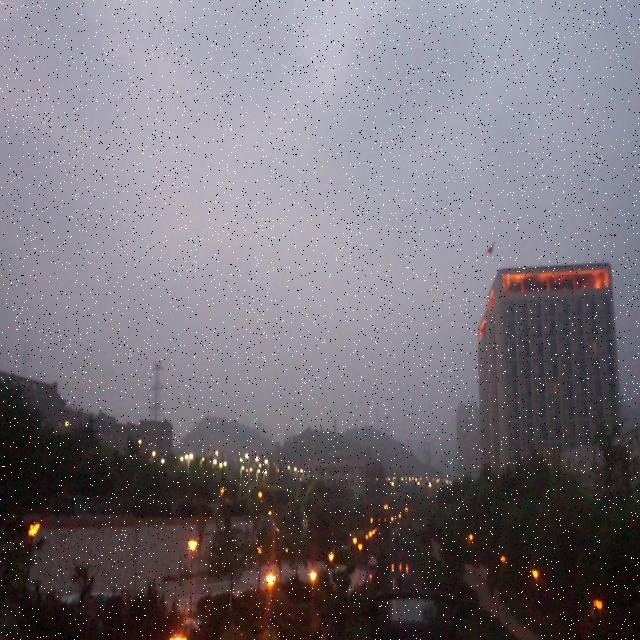UAV: (486, 242, 496, 256)
